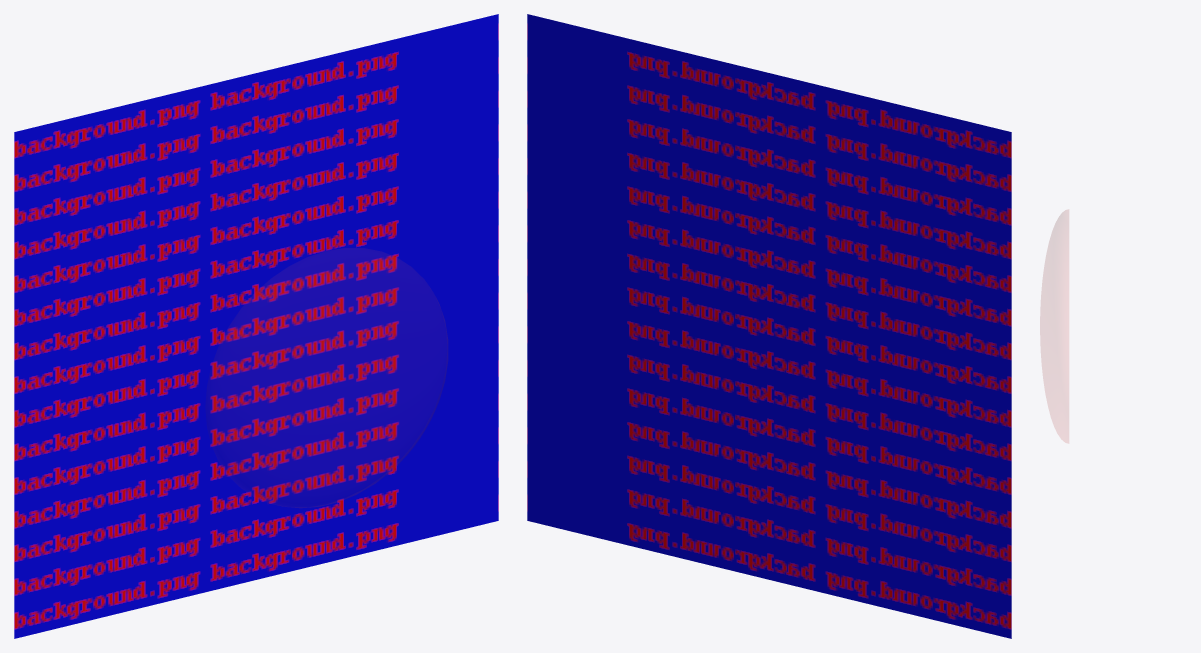
Rendered from Lens.glb.
3 views of the same model, side by side, from view 1: azimuth 30°, elevation 25°; view 2: azimuth 150°, elevation 25°; view 3: azimuth 270°, elevation 25° (orthographic). The views are drawn at different scales.
Size of the model in its own units: 2 by 2 by 0.625.
Materials: 2 (1 with a texture image).
